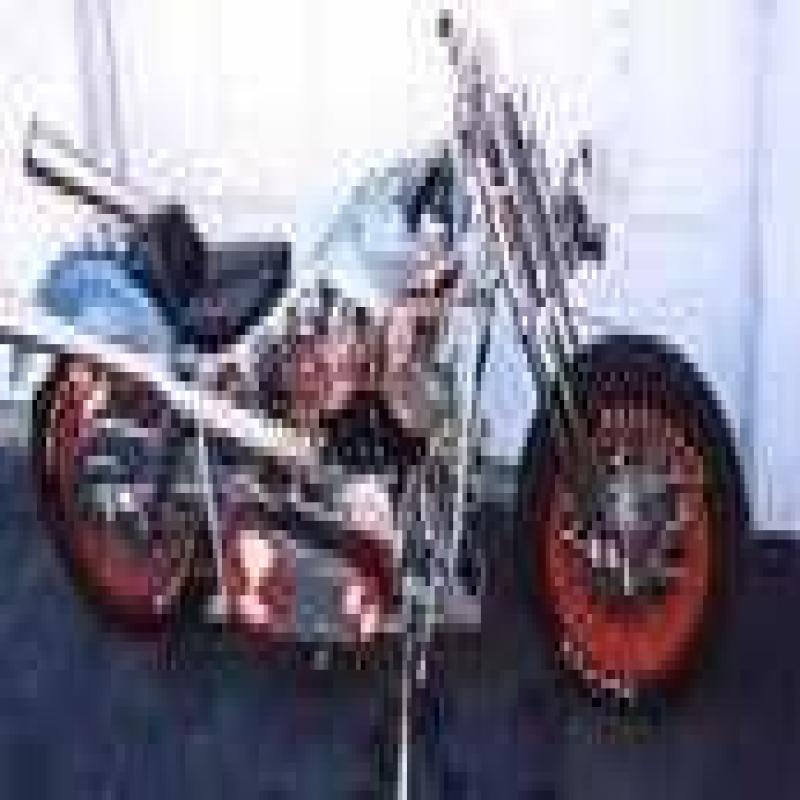bike: (37, 12, 722, 756)
